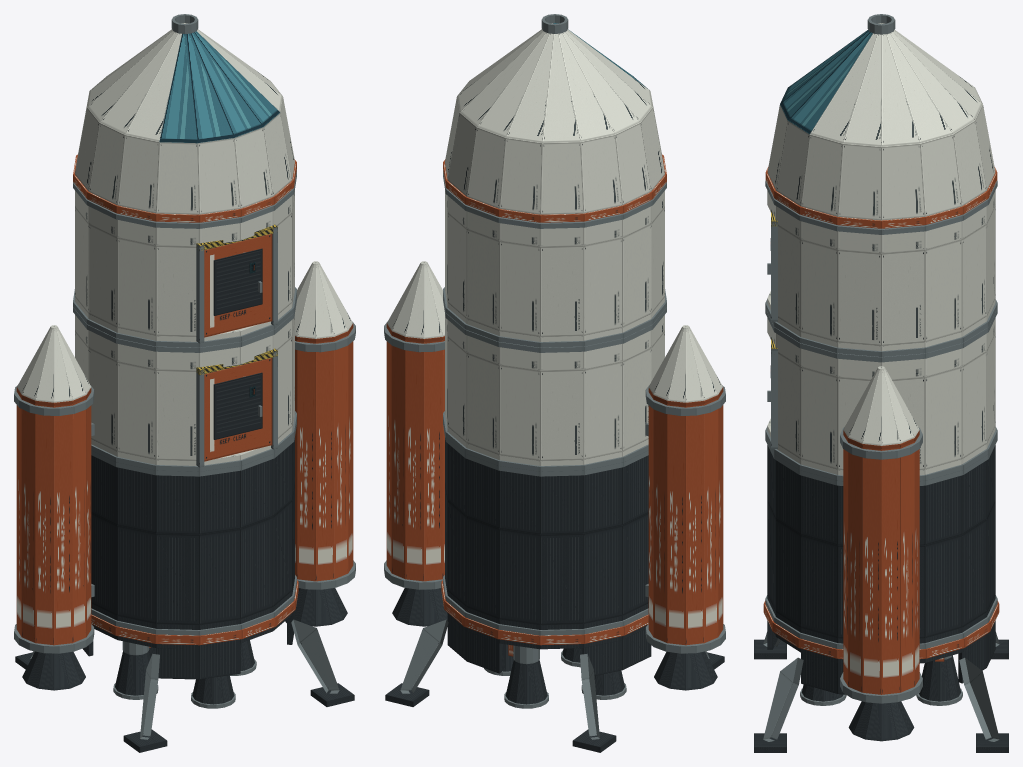
Rendered from rocket-mammoth.glb.
The picture shows the model from 3 angles, left to right: view 1: azimuth 30°, elevation 25°; view 2: azimuth 150°, elevation 25°; view 3: azimuth 270°, elevation 25°; orthographic projection. The views are drawn at different scales.
Visible parts, largest first — view 1: 02_TankSection_hull, 05_CommandCapsule_hull, 06_PortBooster_hull, 04_UpperCargoBay_hull, 07_StarboardBooster_hull, 03_LowerCargoBay_hull, 05_CommandCapsule_glass, Door leaf (×2), Door inset (×2), 04_UpperCargoBay_frame, 03_LowerCargoBay_frame, 01_Propulsion_hull (+12 smaller); view 2: 02_TankSection_hull, 05_CommandCapsule_hull, 04_UpperCargoBay_hull, 03_LowerCargoBay_hull, 06_PortBooster_hull, 07_StarboardBooster_hull, 01_Propulsion_hull, 04_UpperCargoBay_frame, 03_LowerCargoBay_frame, 02_TankSection_frame, 01_Propulsion_frame, LEG_02_landing_leg (+9 smaller); view 3: 05_CommandCapsule_hull, 04_UpperCargoBay_hull, 02_TankSection_hull, 07_StarboardBooster_hull, 03_LowerCargoBay_hull, 04_UpperCargoBay_frame, 05_CommandCapsule_glass, 03_LowerCargoBay_frame, 01_Propulsion_hull, 05_CommandCapsule_frame, LEG_01_landing_leg, LEG_02_landing_leg (+9 smaller).
Boxes of the visible parts, <box> form: 02_TankSection_hull: <box>91,438,294,629</box>; 05_CommandCapsule_hull: <box>75,23,294,214</box>; 06_PortBooster_hull: <box>16,325,91,645</box>; 04_UpperCargoBay_hull: <box>75,190,294,341</box>; 07_StarboardBooster_hull: <box>295,261,353,581</box>; 03_LowerCargoBay_hull: <box>75,314,294,465</box>; 05_CommandCapsule_glass: <box>159,31,280,143</box>; Door leaf (×2): <box>204,234,272,461</box>; Door inset (×2): <box>213,248,262,439</box>; 04_UpperCargoBay_frame: <box>73,170,296,347</box>; 03_LowerCargoBay_frame: <box>73,296,296,471</box>; 01_Propulsion_hull: <box>82,610,294,679</box>; 02_TankSection_hull: <box>445,438,648,629</box>; 05_CommandCapsule_hull: <box>445,23,664,214</box>; 04_UpperCargoBay_hull: <box>445,190,664,341</box>; 03_LowerCargoBay_hull: <box>445,314,664,465</box>; 06_PortBooster_hull: <box>648,325,723,645</box>; 07_StarboardBooster_hull: <box>386,261,444,581</box>; 01_Propulsion_hull: <box>447,613,651,675</box>; 04_UpperCargoBay_frame: <box>443,170,666,347</box>; 03_LowerCargoBay_frame: <box>443,296,666,471</box>; 02_TankSection_frame: <box>443,420,648,635</box>; 01_Propulsion_frame: <box>441,580,648,645</box>; LEG_02_landing_leg: <box>385,619,448,706</box>; 05_CommandCapsule_hull: <box>767,23,995,220</box>; 04_UpperCargoBay_hull: <box>767,190,995,351</box>; 02_TankSection_hull: <box>767,445,995,643</box>; 07_StarboardBooster_hull: <box>843,366,919,694</box>; 03_LowerCargoBay_hull: <box>767,318,995,475</box>; 04_UpperCargoBay_frame: <box>765,180,997,356</box>; 05_CommandCapsule_glass: <box>780,30,872,134</box>; 03_LowerCargoBay_frame: <box>765,308,997,480</box>; 01_Propulsion_hull: <box>767,621,995,694</box>; 05_CommandCapsule_frame: <box>765,167,997,228</box>; LEG_01_landing_leg: <box>754,657,803,752</box>; LEG_02_landing_leg: <box>959,657,1008,752</box>.
Bounding box in the file's own units: 8.62 × 16.43 × 5.58.
1 material, 1 textured.
